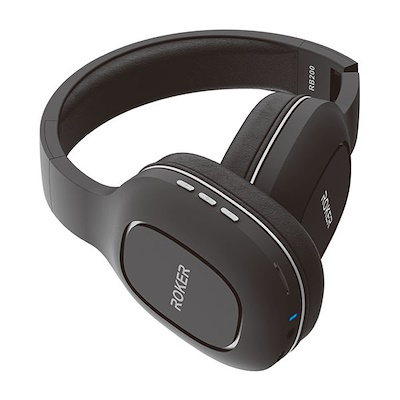Headphone: (32, 22, 368, 376)
